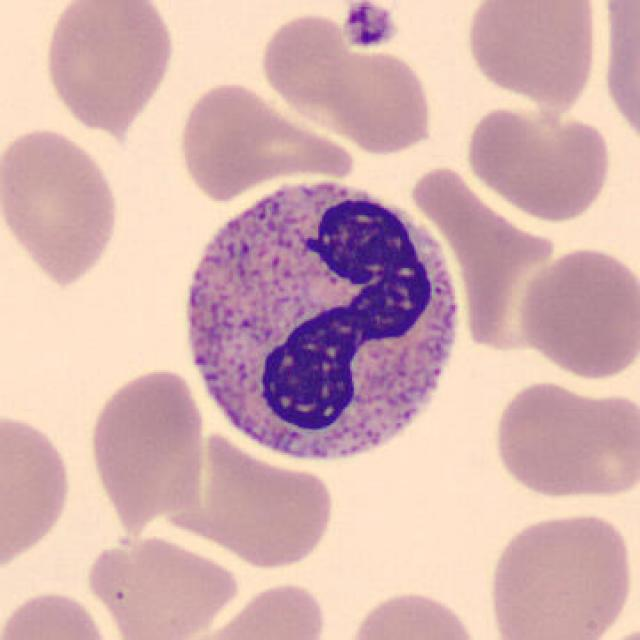Neutrophil: (173, 166, 471, 480)
Platelets: (338, 0, 400, 51)
RBC: (255, 3, 438, 157), (164, 433, 336, 572), (84, 363, 210, 529), (0, 123, 124, 289), (482, 508, 636, 640), (462, 102, 615, 224), (39, 0, 178, 134), (176, 78, 318, 204), (489, 378, 633, 502), (82, 530, 242, 640), (514, 242, 636, 382), (460, 0, 602, 115), (0, 403, 76, 578), (188, 578, 330, 640), (342, 585, 484, 640), (597, 0, 639, 153), (0, 587, 117, 640)
